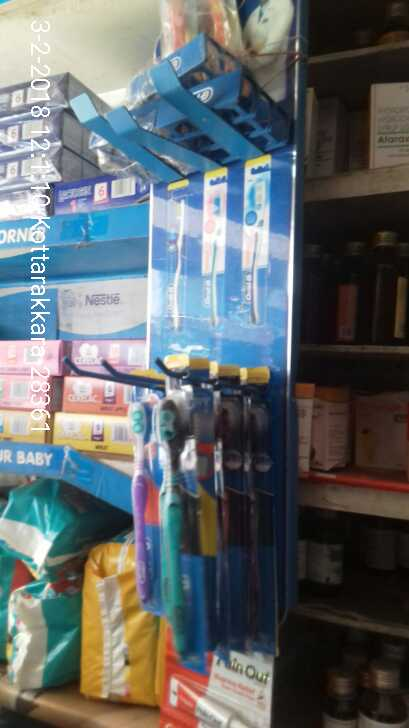oralb: (146, 352, 215, 656)
